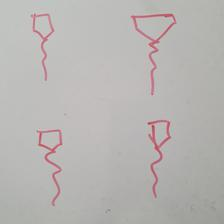rna-stability-element: (131, 13, 178, 98), (35, 128, 64, 206), (146, 120, 172, 200), (32, 13, 55, 81)
